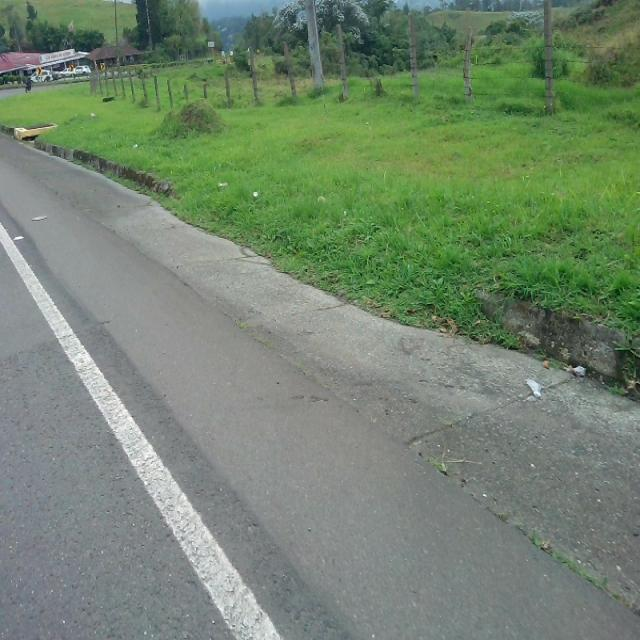DITCH: (1, 115, 639, 638), (1, 128, 639, 638)
